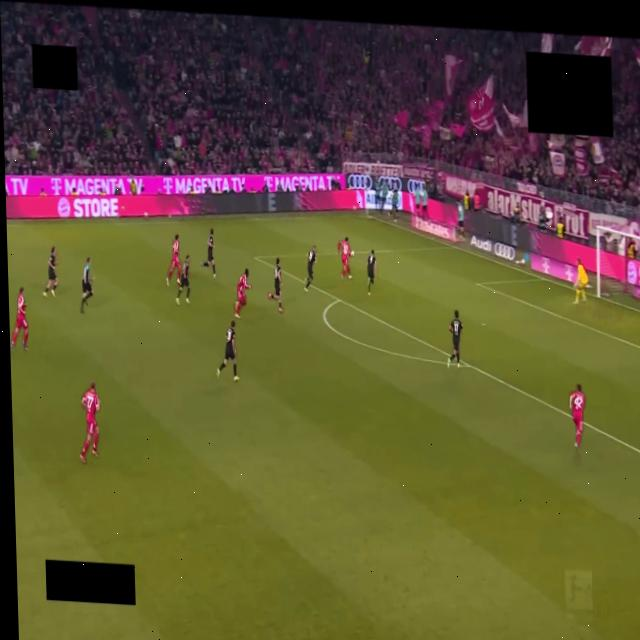ball: (351, 251, 354, 257)
player: (80, 381, 100, 462), (217, 320, 238, 380), (10, 288, 28, 350), (570, 385, 584, 448), (268, 257, 283, 312), (448, 311, 462, 367), (201, 228, 215, 277), (236, 269, 250, 318), (167, 234, 180, 286), (81, 258, 93, 313), (44, 247, 57, 297), (574, 258, 588, 304), (177, 256, 189, 305), (338, 237, 351, 278), (305, 246, 316, 291), (367, 250, 376, 294)
